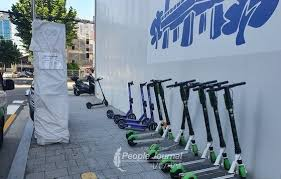kick_board: (87, 77, 108, 109)
kick_body: (126, 124, 147, 129), (115, 113, 125, 117)
kick_handler: (128, 80, 134, 87)
kick_neck: (128, 89, 134, 112), (98, 81, 105, 98)
kick_wheel: (128, 136, 137, 147), (118, 118, 125, 129), (106, 110, 113, 119), (86, 103, 92, 109), (104, 101, 108, 107)
